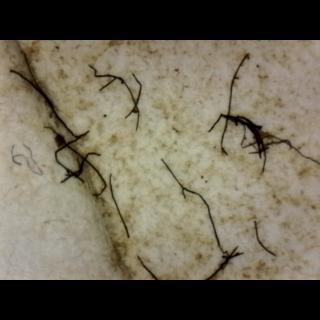Microplastic: (159, 154, 237, 252), (84, 54, 158, 128), (243, 211, 283, 261)
